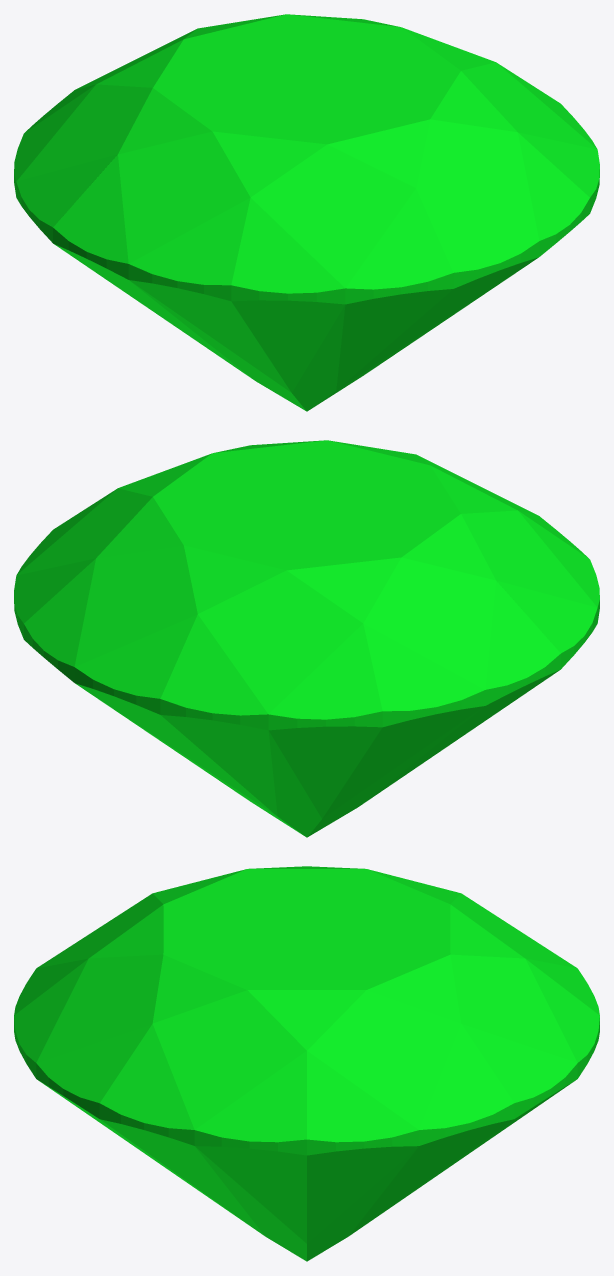
The model's file is RoundEmerald.glb.
The picture shows the model from 3 angles, top to bottom: view 1: azimuth 30°, elevation 25°; view 2: azimuth 150°, elevation 25°; view 3: azimuth 270°, elevation 25°; orthographic projection.
Parts seen in each view (by area): view 1: new twist dia for 3d model; view 2: new twist dia for 3d model; view 3: new twist dia for 3d model.
Part boxes in pixels (<box>): new twist dia for 3d model: <box>14,14,599,411</box>; new twist dia for 3d model: <box>14,440,599,837</box>; new twist dia for 3d model: <box>14,866,599,1261</box>.
Size of the model in its own units: 7.45 by 4.66 by 7.45.
